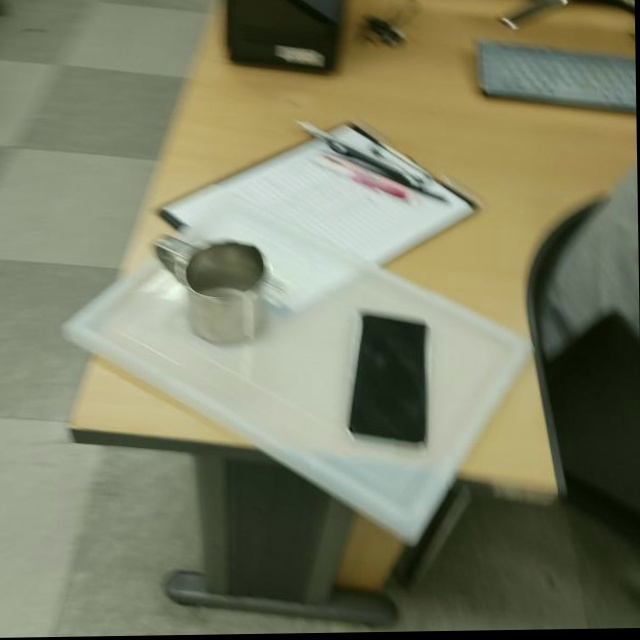cup: (150, 227, 270, 350)
phone: (343, 307, 435, 454)
